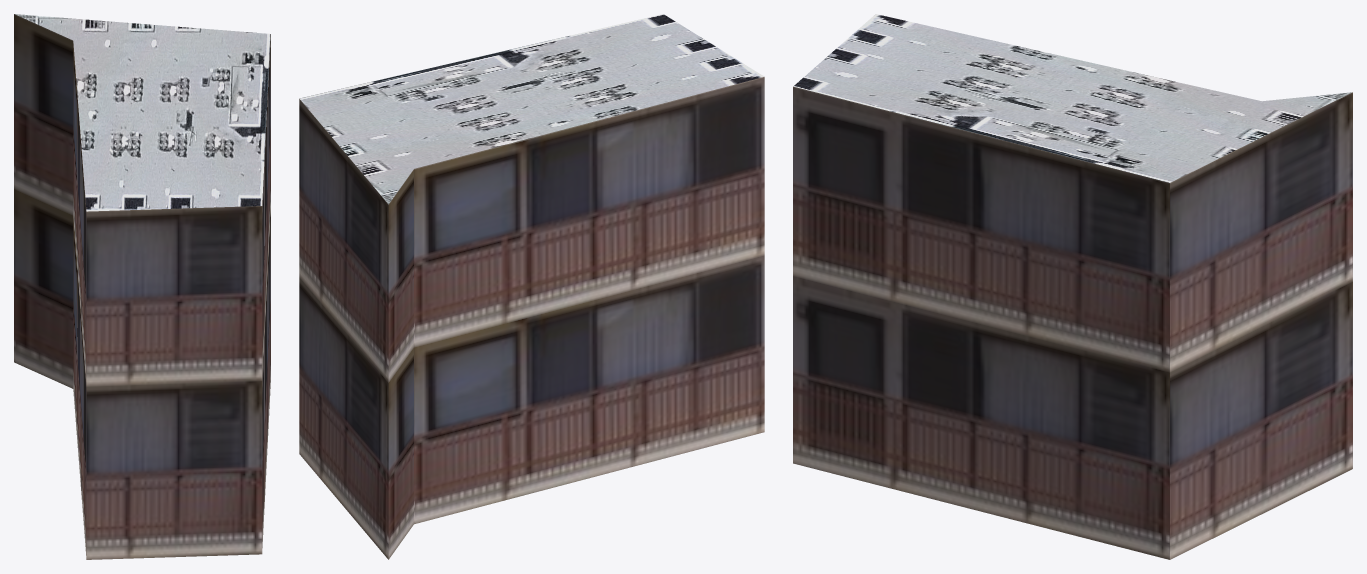
The model's file is ResTex__2685.fbx.
3 renders of one model, left to right at view 1: azimuth 30°, elevation 25°; view 2: azimuth 150°, elevation 25°; view 3: azimuth 270°, elevation 25°, orthographic. The views are drawn at different scales.
Visible parts, largest first — view 1: CityEngineMaterial_6_m, CityEngineMaterial_8_m; view 2: CityEngineMaterial_6_m, CityEngineMaterial_8_m; view 3: CityEngineMaterial_6_m, CityEngineMaterial_8_m.
Part boxes in pixels (bbox=[...]): CityEngineMaterial_6_m: bbox=[14, 14, 270, 559]; CityEngineMaterial_8_m: bbox=[15, 14, 270, 211]; CityEngineMaterial_6_m: bbox=[299, 77, 764, 559]; CityEngineMaterial_8_m: bbox=[299, 14, 764, 204]; CityEngineMaterial_6_m: bbox=[793, 86, 1352, 559]; CityEngineMaterial_8_m: bbox=[793, 14, 1351, 182].
Size of the model in its own units: 5.77 by 6 by 8.07.
2 materials, 2 textured.
